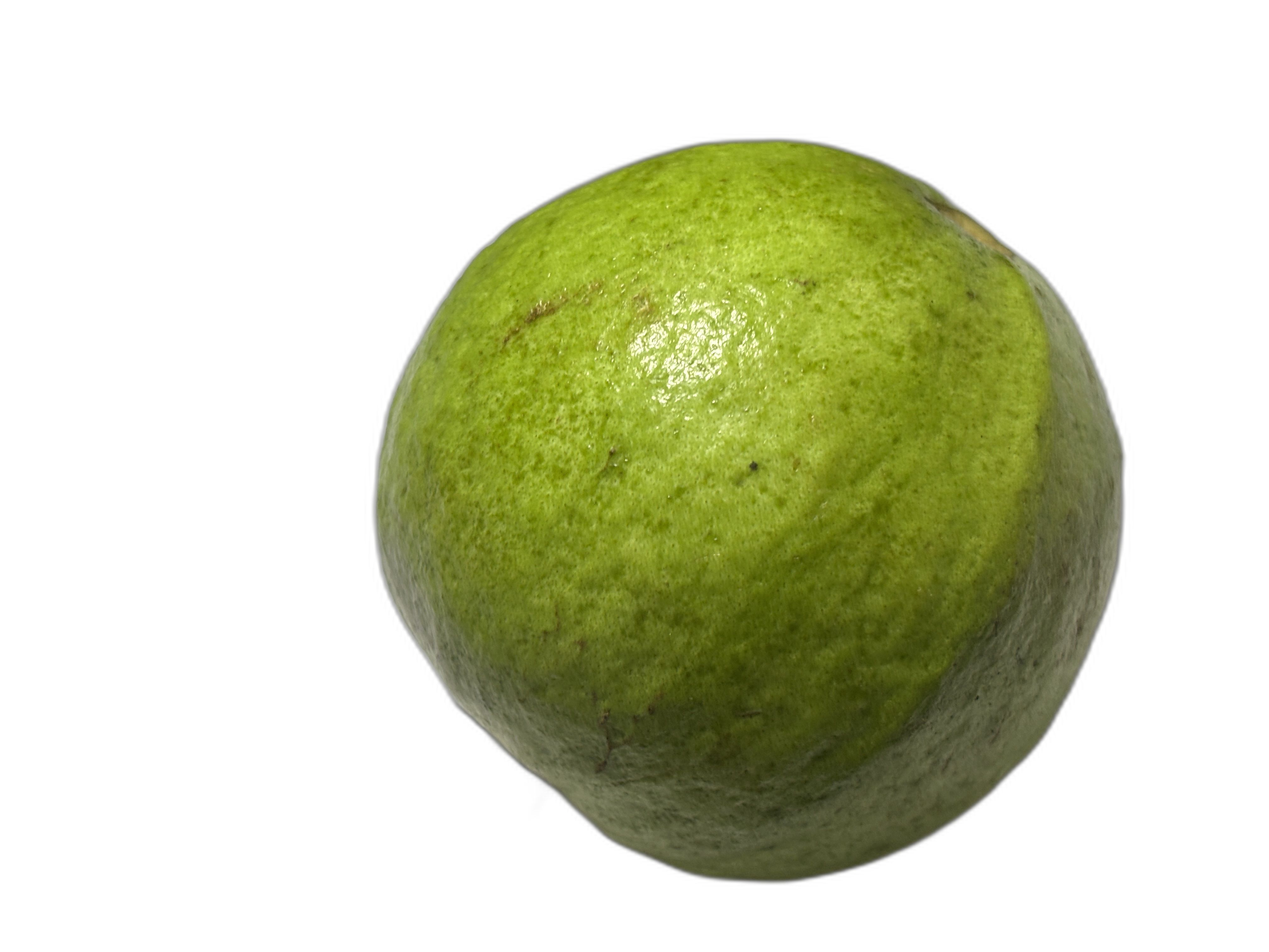guava: (224, 139, 1137, 778)
